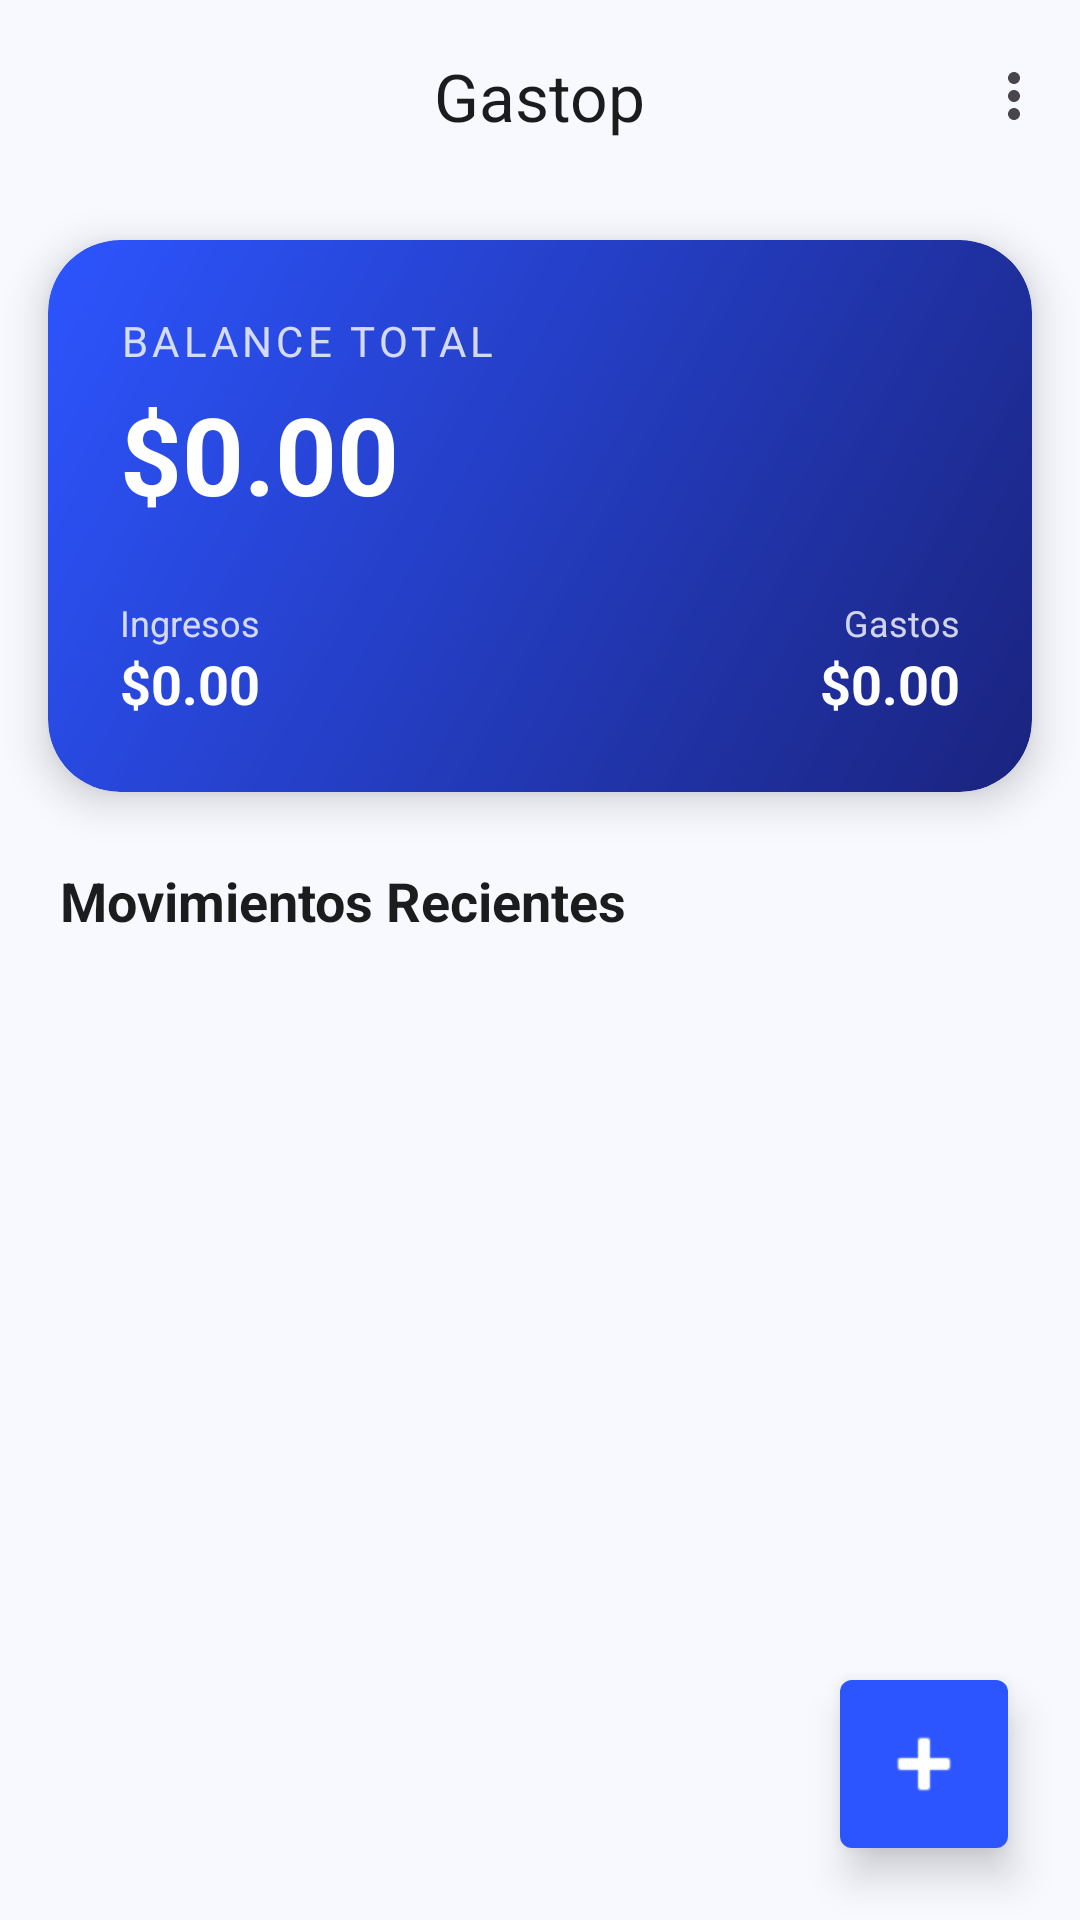

Icon click points for this 1080 x 1920 phone screenshot, format point (x, y):
Añadir transacción: point (924, 1764)
